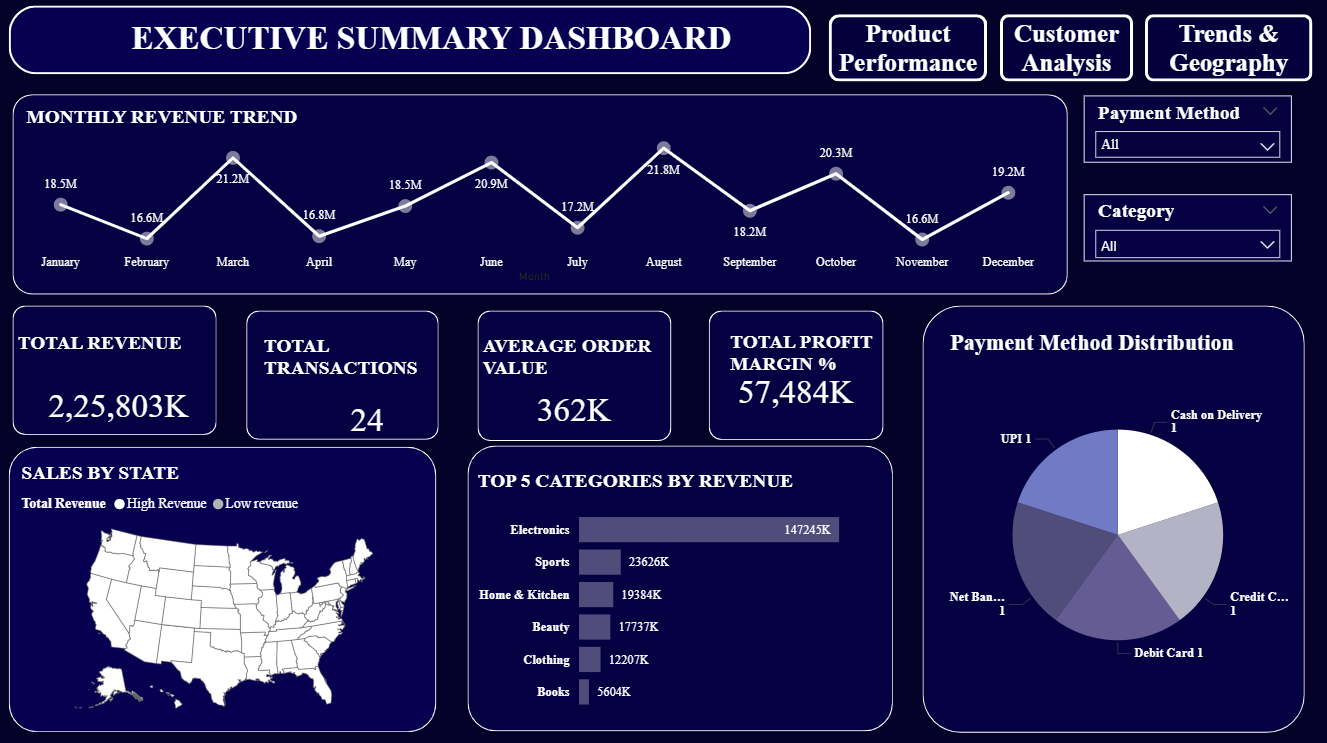

The dashboard page shown, as its layout file describes it:
{"tool":"powerbi","page":{"name":"Page 1","canvas":[1280,720],"ordinal":0},"visuals":[{"type":"shape","box":[6.7,5.7,775.7,79.6],"z":0,"group":"g5"},{"type":"actionButton","title":"View Slicers","box":[799.3,15.9,152.9,64.9],"z":0},{"type":"shape","box":[11.5,92.3,1018.6,193.3],"z":1000,"group":"g1"},{"type":"slicer","title":"Payment Method","fields":{"Values":["query5_payment_distribution.payment_method"]},"box":[1046,112.2,200.3,65.1],"z":1000},{"type":"actionButton","box":[965.2,15.9,128.4,64.9],"z":2000},{"type":"shape","box":[8.9,433.1,412.6,275.6],"z":2000,"group":"g3"},{"type":"actionButton","box":[1105.2,15.9,161.6,64.9],"z":3000},{"type":"shape","box":[451.6,431.4,410.7,275.9],"z":3000,"group":"g4"},{"type":"slicer","fields":{"Values":["query4_category_performance.category"]},"box":[1046,202.7,200.3,63.9],"z":4000},{"type":"shape","box":[890.2,297.2,369,412.5],"z":4000,"group":"g2"},{"type":"group","id":"g1","title":"Group 1","box":[11.5,92.3,1018.6,193.3],"z":5000},{"type":"shape","box":[692.2,299.2,168.6,125],"z":5000,"group":"g6"},{"type":"group","id":"g2","title":"Group 2","box":[890.2,297.2,369.3,411.2],"z":6000},{"type":"shape","box":[255.9,299.2,185.8,124.3],"z":6000,"group":"g7"},{"type":"shape","box":[475.3,296.8,187.1,126],"z":7000,"group":"g8"},{"type":"group","id":"g3","title":"Group 3","box":[8.9,433.1,412.6,275.6],"z":7000},{"type":"shape","box":[20.5,299.2,197.1,125],"z":8000,"group":"g9"},{"type":"group","id":"g4","title":"Group 4","box":[451.6,431.4,411.2,275.6],"z":8000},{"type":"group","id":"g5","title":"Group 5","box":[6.7,5.7,775.7,79.6],"z":9000},{"type":"card","fields":{"Values":["Sum(query2_monthly_trend.total_revenue)"]},"box":[20.6,363.2,205,63.5],"z":9000,"group":"g9"},{"type":"group","id":"g6","title":"Group 6","box":[687.7,299.2,211.1,124.3],"z":10000},{"type":"card","fields":{"Values":["CountNonNull(query2_monthly_trend.total_transactions)"]},"box":[307.8,369.6,103.5,59.4],"z":10000,"group":"g7"},{"type":"group","id":"g7","title":"Group 7","box":[254.6,299.2,209.9,129.1],"z":11000},{"type":"card","fields":{"Values":["Sum(query2_monthly_trend.average_order_value)"]},"box":[470.5,360.8,196,62],"z":11000,"group":"g8"},{"type":"group","id":"g8","title":"Group 8","box":[470.5,296.8,203.9,125.5],"z":12000},{"type":"card","fields":{"Values":["Sum(query4_category_performance.total_profit)"]},"box":[687.7,347.2,177.7,59],"z":12000,"group":"g6"},{"type":"lineChart","title":"MONTHLY REVENUE TREND","fields":{"Y":["Sum(query2_monthly_trend.total_revenue)"],"Category":["query2_monthly_trend.year_month.Variation.Date Hierarchy.Month"]},"box":[19.4,103.2,991.2,176],"z":13000,"group":"g1"},{"type":"group","id":"g9","title":"Group 9","box":[20.5,299.2,203.9,127.9],"z":13000},{"type":"barChart","title":"TOP 5 CATEGORIES BY REVENUE","fields":{"Category":["query4_category_performance.category"],"Y":["Sum(query4_category_performance.total_revenue)"]},"box":[456.1,454.6,404.5,245.5],"z":14000,"group":"g4"},{"type":"pieChart","title":"Payment Method Distribution","fields":{"Category":["query5_payment_distribution.payment_method"],"Y":["CountNonNull(query5_payment_distribution.total_revenue)"]},"box":[912.2,321,334,371],"z":15000,"group":"g2"},{"type":"shapeMap","title":"SALES BY STATE","fields":{"Category":["query6_geographic_analysis.state"],"Series":["query6_geographic_analysis.Custom"]},"box":[16.3,447.4,401.1,252.5],"z":16000,"group":"g3"},{"type":"textbox","box":[20.6,320,205,48.7],"z":17000,"group":"g9"},{"type":"textbox","box":[254.6,312.4,210.7,58.9],"z":18000,"group":"g7"},{"type":"textbox","box":[475.2,314.4,199.1,59.8],"z":19000,"group":"g8"},{"type":"textbox","box":[708,314.1,189,59.8],"z":20000,"group":"g6"},{"type":"textbox","box":[93.9,20.5,651.5,54.3],"z":21000,"group":"g5"}]}

Visuals, with their boxes in screenshot pixels (x1, y1, x2, y2), scaled from the page's 1280x720 canvas onto the 1327x743 screenshot:
shape: region(7, 6, 811, 88)
"View Slicers" actionButton: region(829, 16, 987, 83)
shape: region(12, 95, 1068, 295)
"Payment Method" slicer: region(1084, 116, 1292, 183)
actionButton: region(1001, 16, 1134, 83)
shape: region(9, 447, 437, 731)
actionButton: region(1146, 16, 1313, 83)
shape: region(468, 445, 894, 730)
slicer - query4_category_performance.category: region(1084, 209, 1292, 275)
shape: region(923, 307, 1305, 732)
"Group 1" group: region(12, 95, 1068, 295)
shape: region(718, 309, 892, 438)
"Group 2" group: region(923, 307, 1306, 731)
shape: region(265, 309, 458, 437)
shape: region(493, 306, 687, 436)
"Group 3" group: region(9, 447, 437, 731)
shape: region(21, 309, 226, 438)
"Group 4" group: region(468, 445, 894, 730)
"Group 5" group: region(7, 6, 811, 88)
card - Sum(query2_monthly_trend.total_revenue): region(21, 375, 234, 440)
"Group 6" group: region(713, 309, 932, 437)
card - CountNonNull(query2_monthly_trend.total_transactions): region(319, 381, 426, 443)
"Group 7" group: region(264, 309, 482, 442)
card - Sum(query2_monthly_trend.average_order_value): region(488, 372, 691, 436)
"Group 8" group: region(488, 306, 699, 436)
card - Sum(query4_category_performance.total_profit): region(713, 358, 897, 419)
"MONTHLY REVENUE TREND" lineChart: region(20, 106, 1048, 288)
"Group 9" group: region(21, 309, 233, 441)
"TOP 5 CATEGORIES BY REVENUE" barChart: region(473, 469, 892, 722)
"Payment Method Distribution" pieChart: region(946, 331, 1292, 714)
"SALES BY STATE" shapeMap: region(17, 462, 433, 722)
textbox: region(21, 330, 234, 380)
textbox: region(264, 322, 482, 383)
textbox: region(493, 324, 699, 386)
textbox: region(734, 324, 930, 386)
textbox: region(97, 21, 773, 77)
